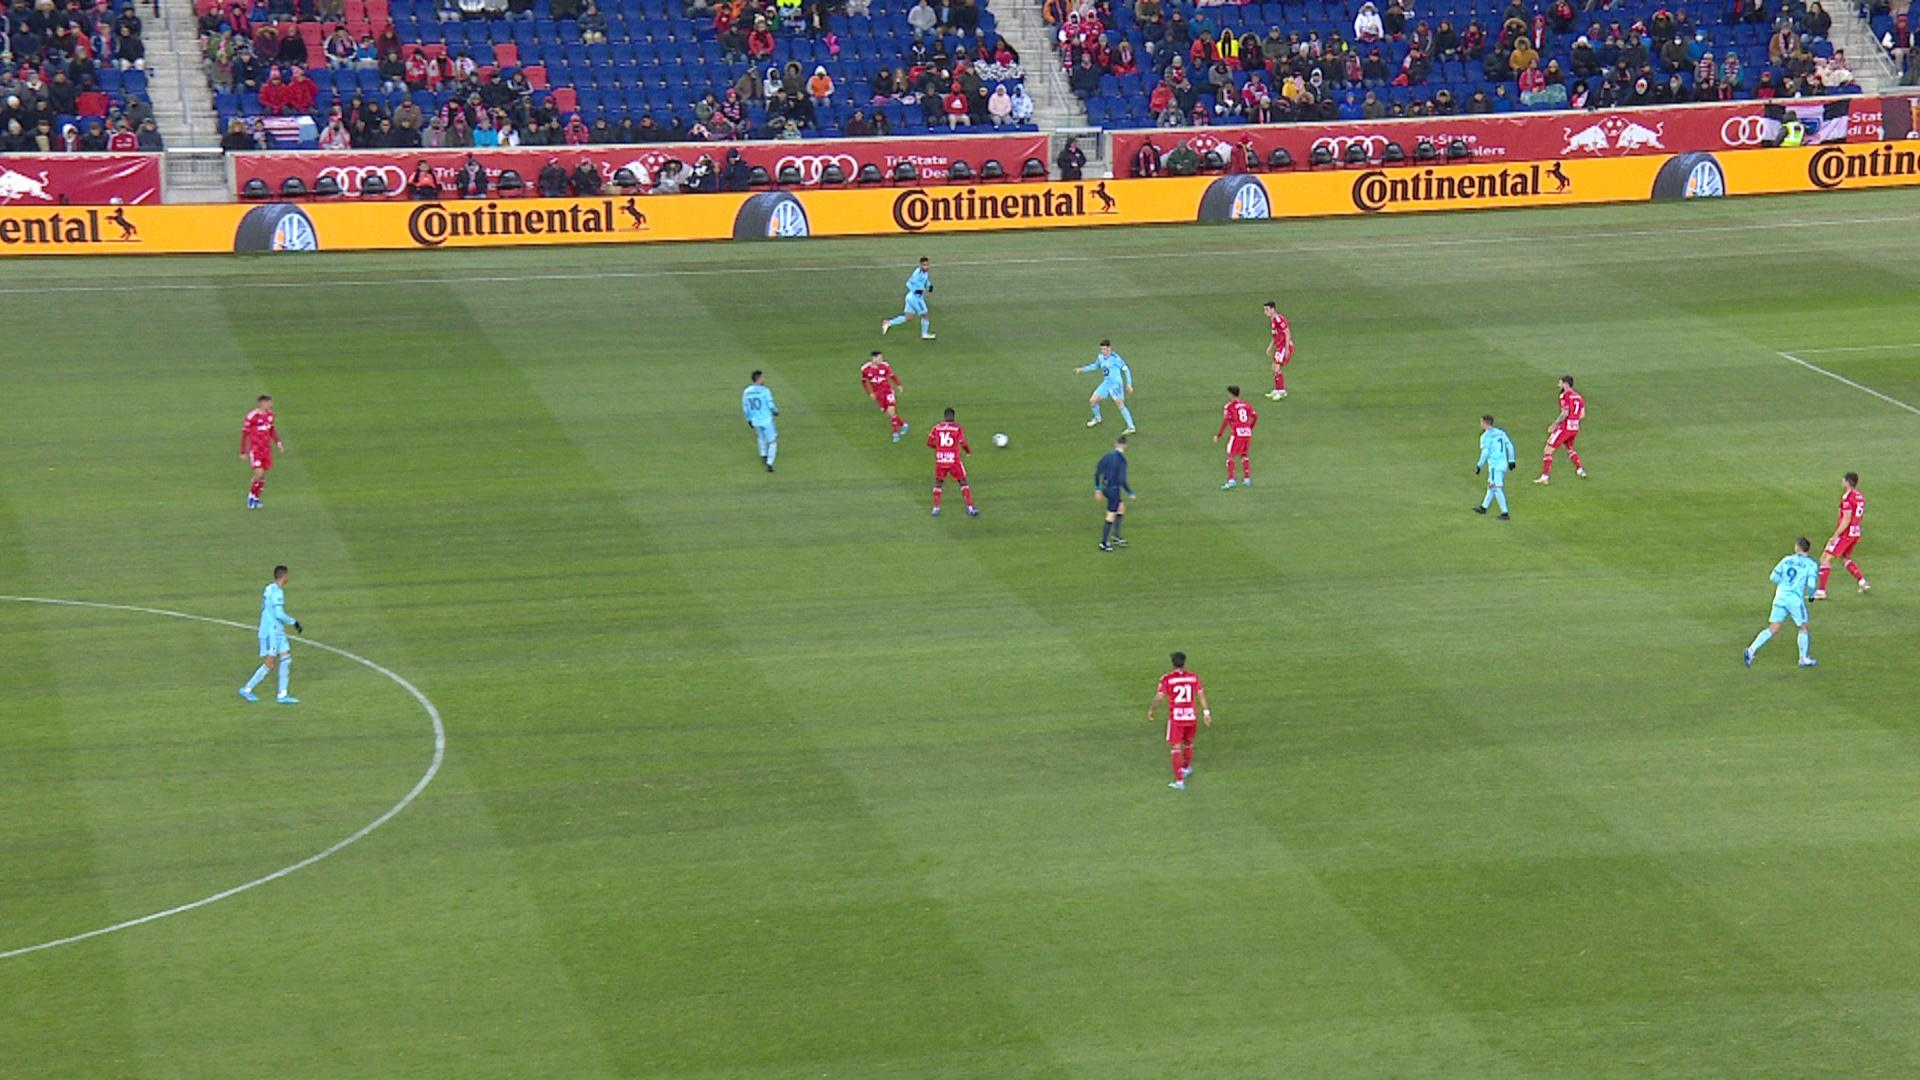football: (992, 431, 1009, 448)
